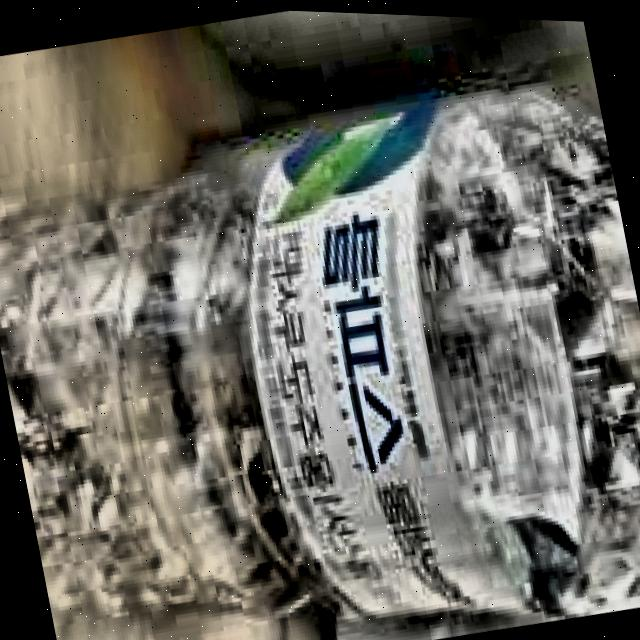plastic: (0, 45, 640, 640), (0, 159, 640, 629)
